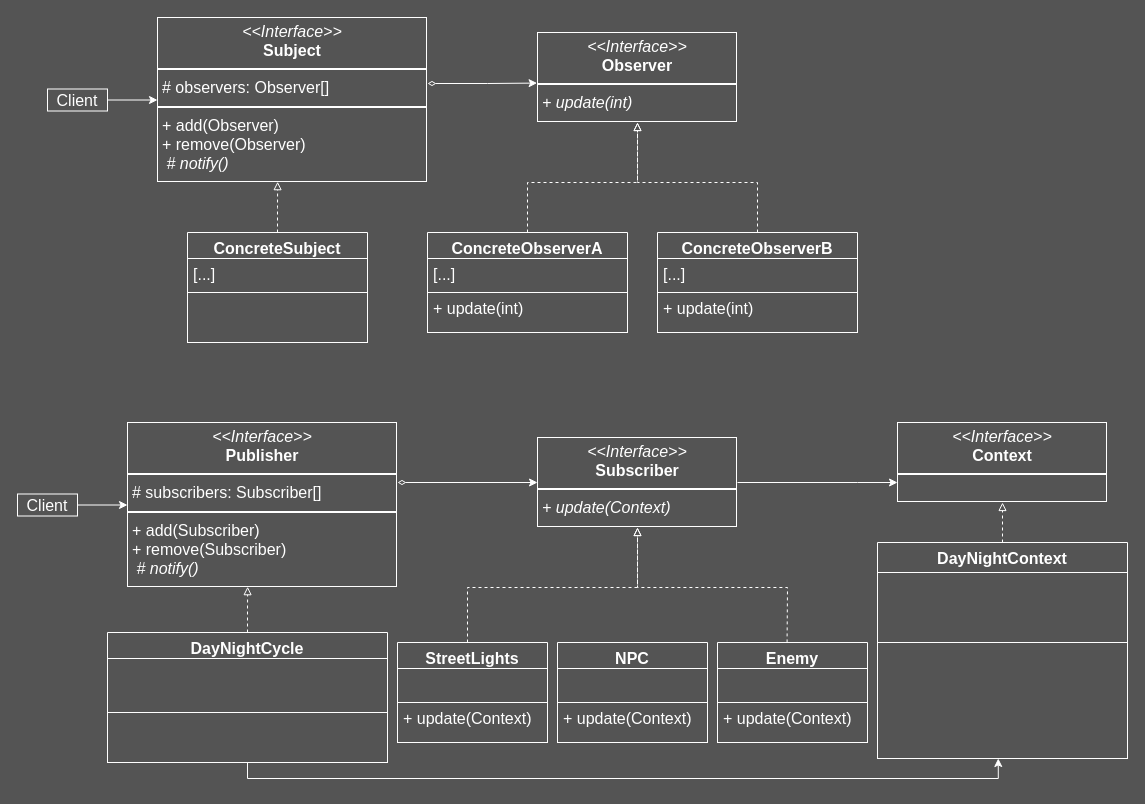
Image size: 1145x804. Some labels were removed from this diagram. Each missing label, with the centre of its shape:
+ getTime() + setTime(int) + getIsDay() + getIsFullMoon() + setIsFullMoon(): [1002,700]
+ updateContext(DayNightContext) - notify(): [247,737]
+ updateState(int) - notify(): [277,317]
- dayNightContext: DayNightContext - isDay: bool: [247,685]
time: int isDay: bool isFullMoon: bool: [1002,607]
